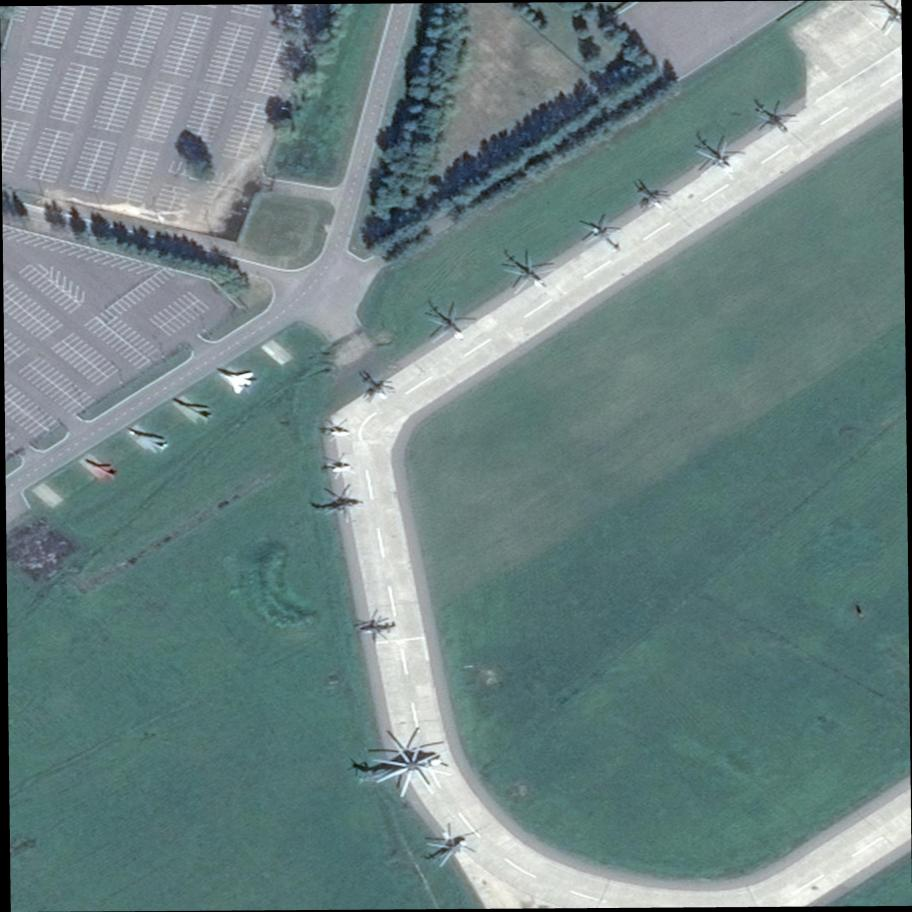plane: (210, 353, 263, 400), (167, 387, 219, 431), (119, 420, 176, 457), (77, 447, 126, 490)
